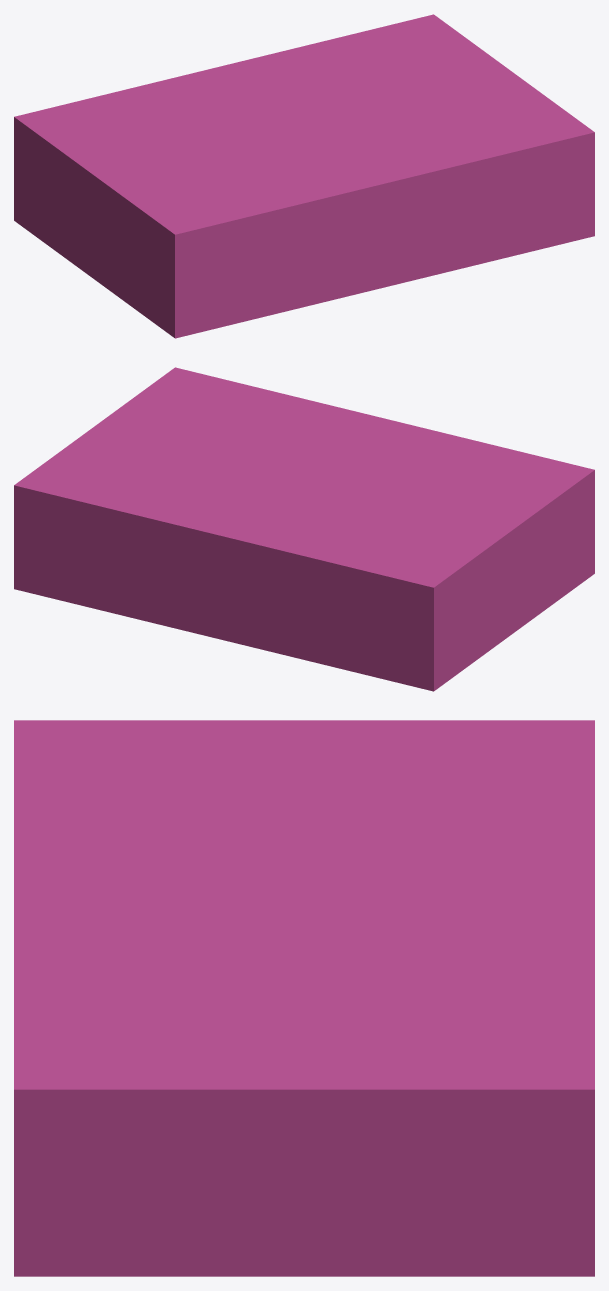
The model's file is boloretangulo cobertura rosa.glb.
The picture shows the model from 3 angles, top to bottom: view 1: azimuth 30°, elevation 25°; view 2: azimuth 150°, elevation 25°; view 3: azimuth 270°, elevation 25°; orthographic projection. The views are drawn at different scales.
Parts seen in each view (by area): view 1: Cube; view 2: Cube; view 3: Cube.
Part boxes in pixels (x1,y1,x2,y2): Cube: [14, 14, 594, 338]; Cube: [14, 367, 594, 691]; Cube: [14, 720, 594, 1276].
Bounding box in the file's own units: 3.13 × 0.7391 × 2.08.
